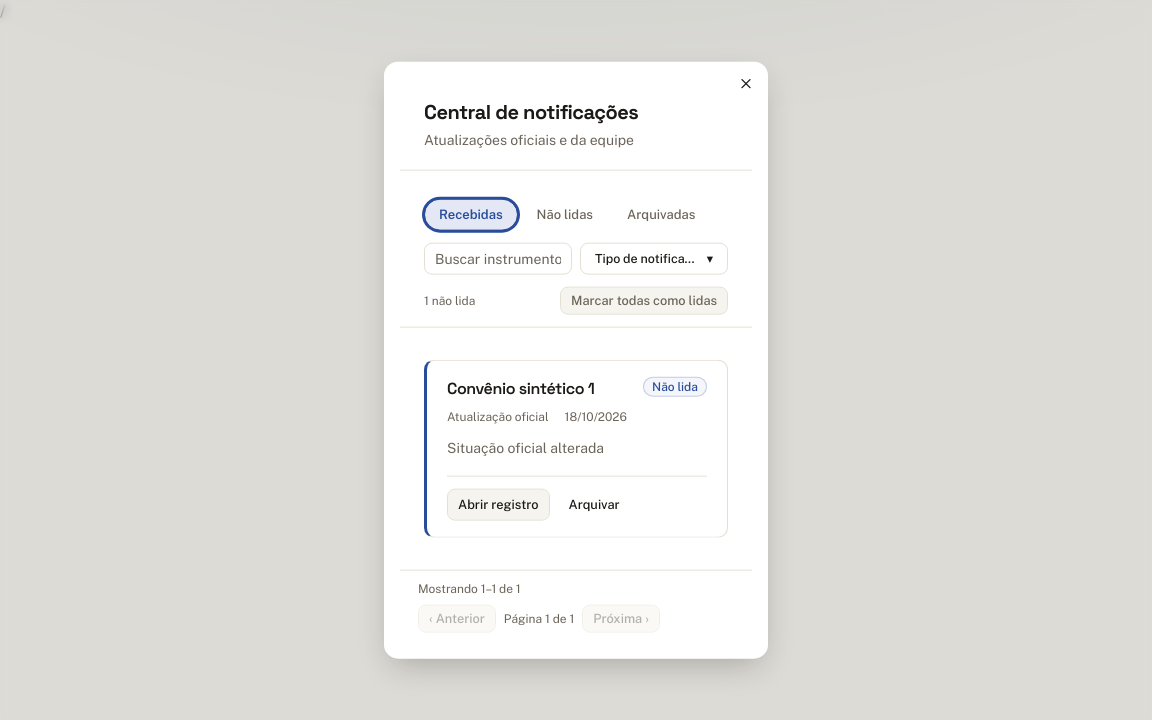
Test: Central de notificações integrada à API › mantém a mensagem completa, marca leitura e navega somente após confirmação
Expected: the text "Situação oficial alterada" is shown, [447, 440, 604, 456]
Click the button "Abrir registro". click: coordinates (498, 504)
box: [447, 488, 550, 520]
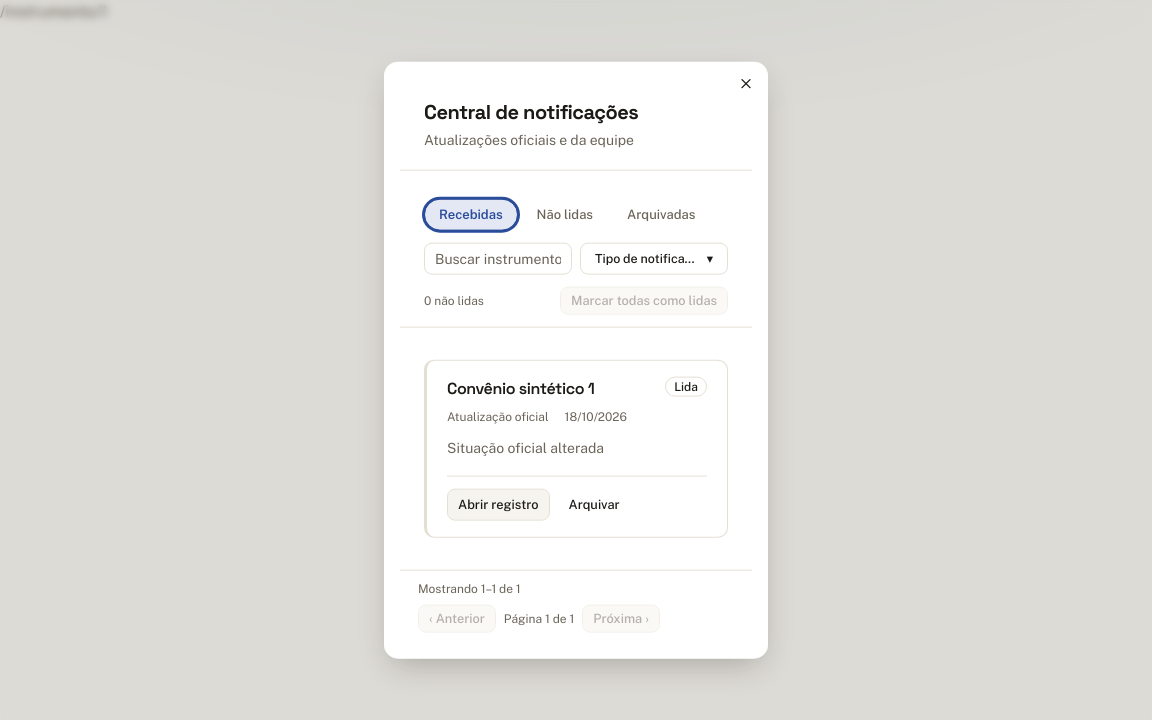
Result: the text named "Destino atual" reads "/instrumento/1" at [0, 2, 108, 21]
